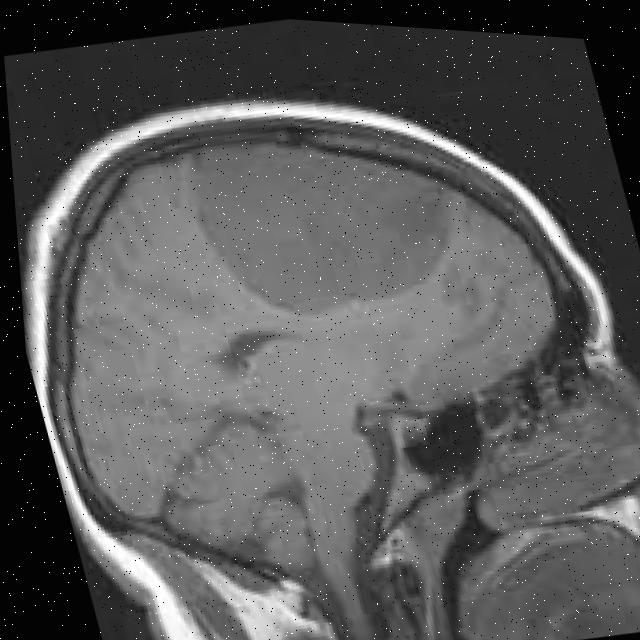Meningioma: (174, 100, 474, 340)
